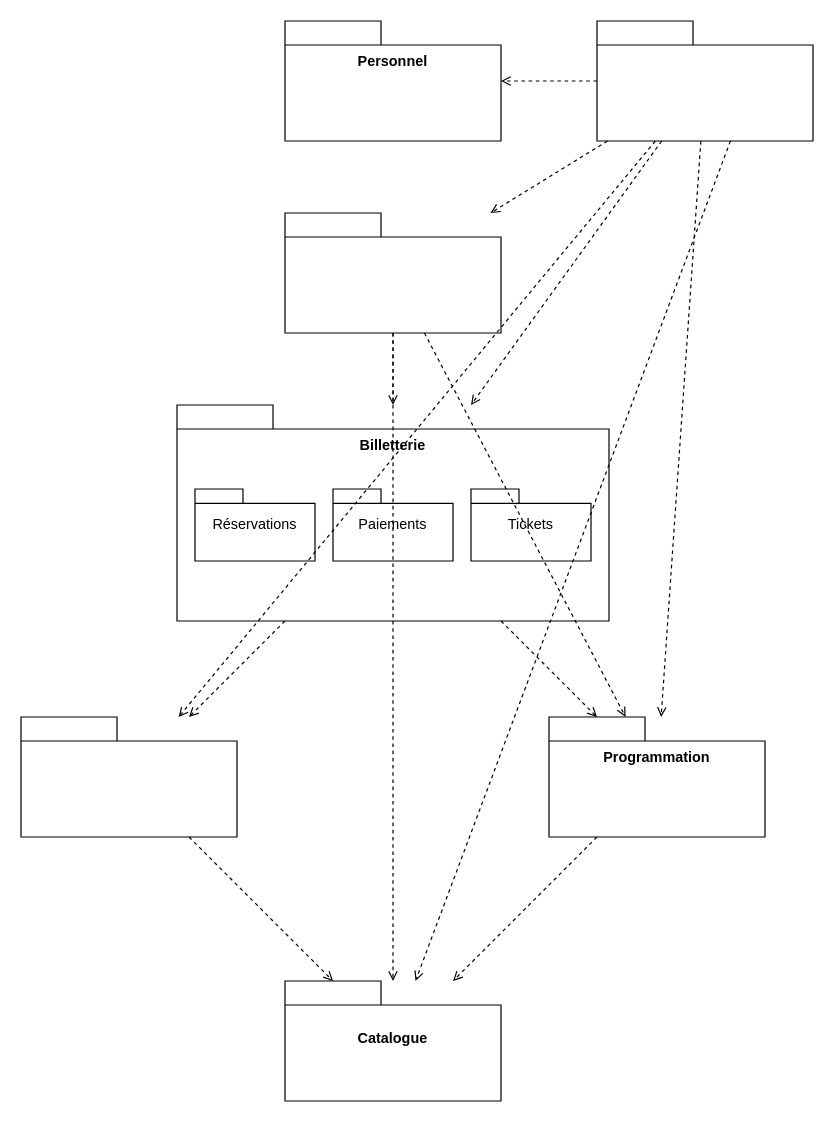
Some shapes in this 834 by 1122 pixel diagram are drawn without their labels. Each missing label, with the centre of its shape:
Clients: the point at 128,776
Interface: the point at 704,80
Reporting: the point at 392,272
